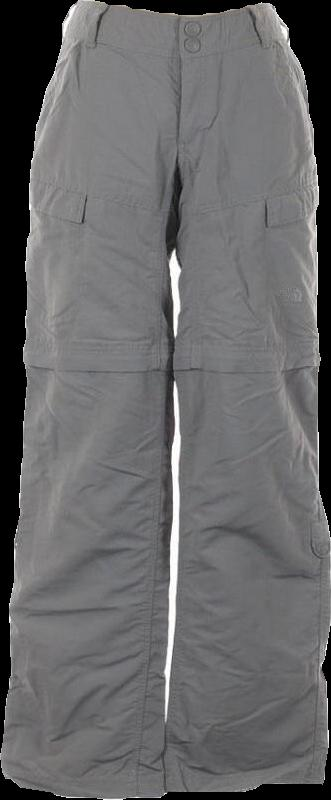Hemline: (0, 770, 168, 799), (161, 776, 325, 799)
Pantleg: (0, 0, 178, 797), (160, 3, 330, 794)
Waistline: (59, 38, 293, 63), (71, 0, 268, 23)
